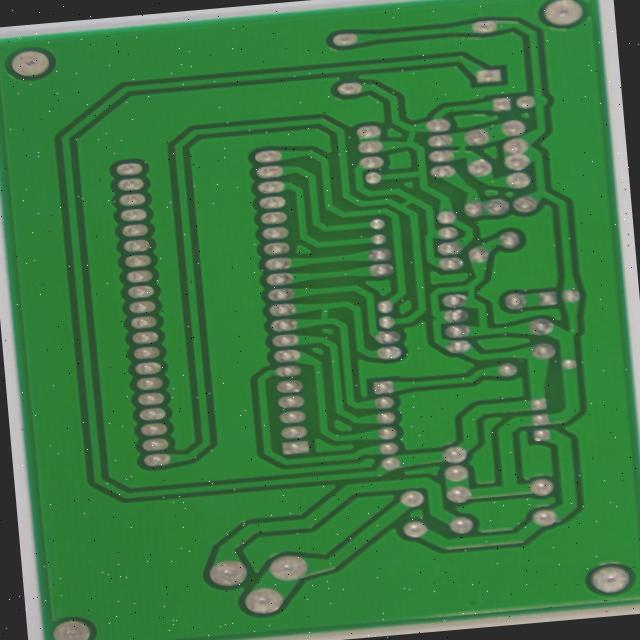short: (393, 120, 423, 152), (306, 300, 339, 329), (455, 277, 485, 308), (447, 138, 477, 162), (390, 192, 420, 215)
